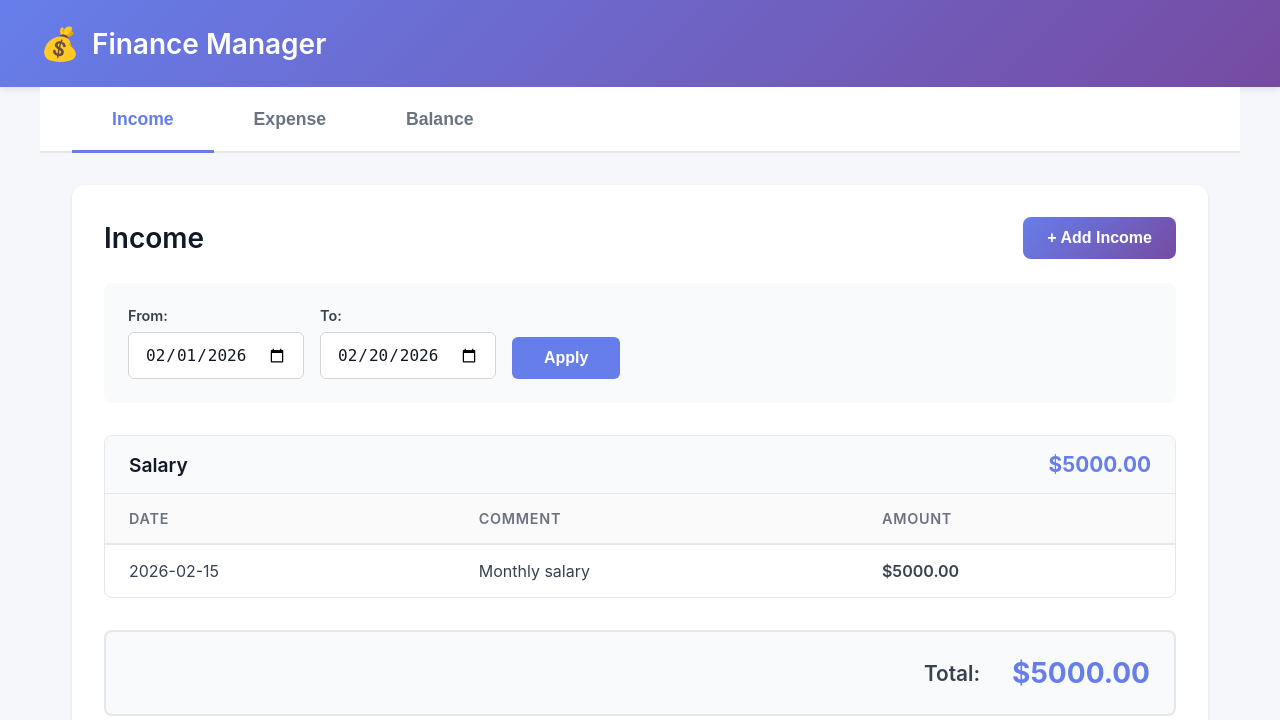
Test: Finance Manager - Balance Tab › Expenses View › should handle multiple expense categories
Check: the header with class "app-header" is shown, box [0,0,1279,87]
Check: the navigation bar with class "nav-tabs" is shown, box [40,87,1240,153]
Click the button "Balance".
click(440, 121)  # box [366,89,514,153]
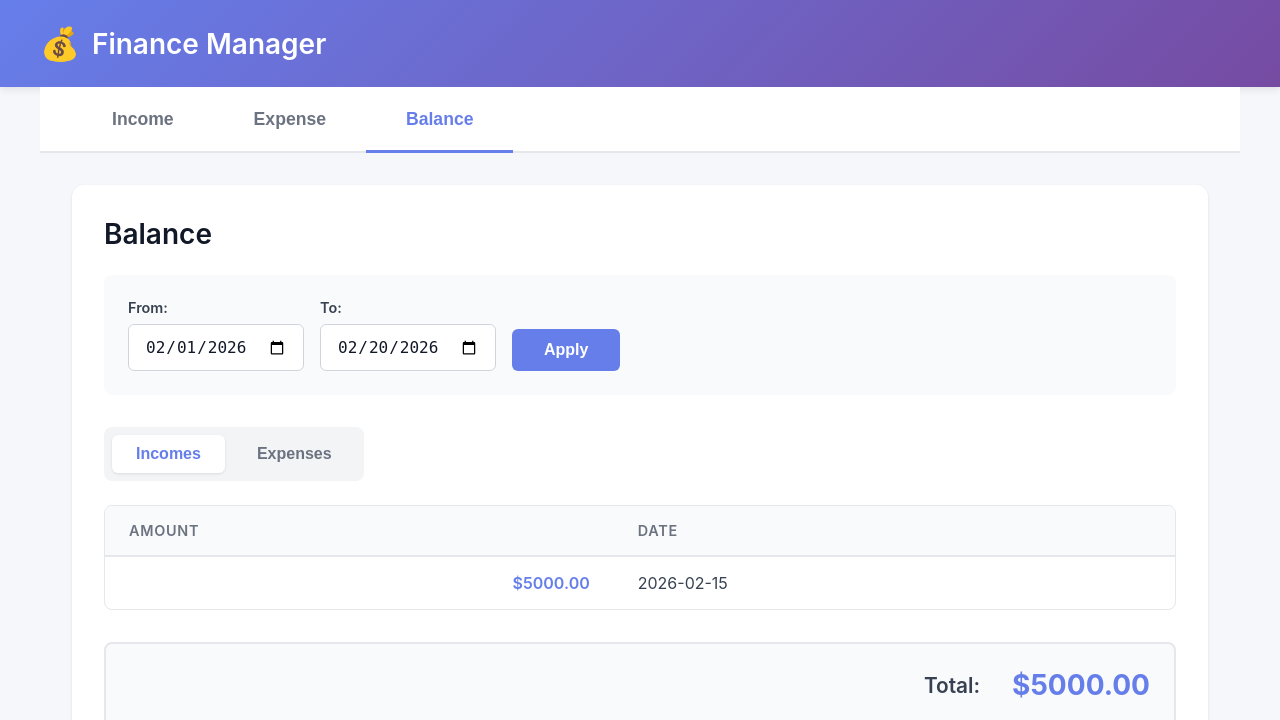
Reload the page
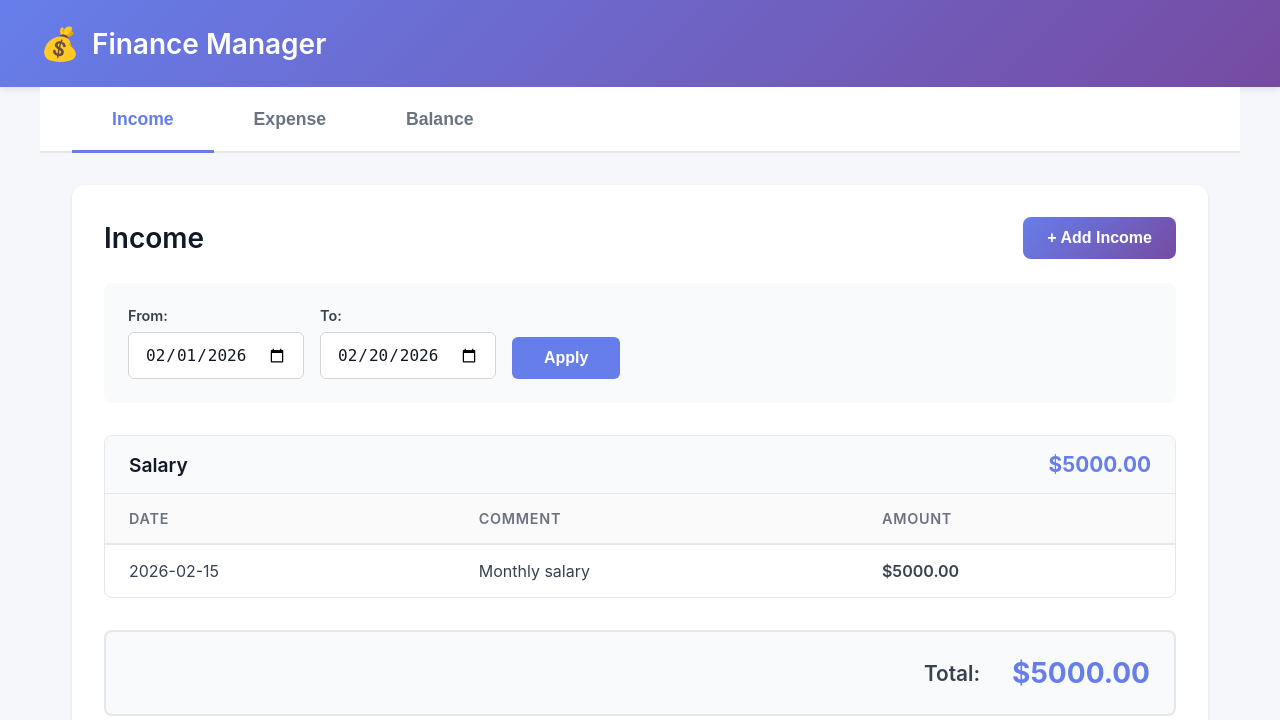
Click the button "Balance".
click(440, 121)  # box [366,89,514,153]
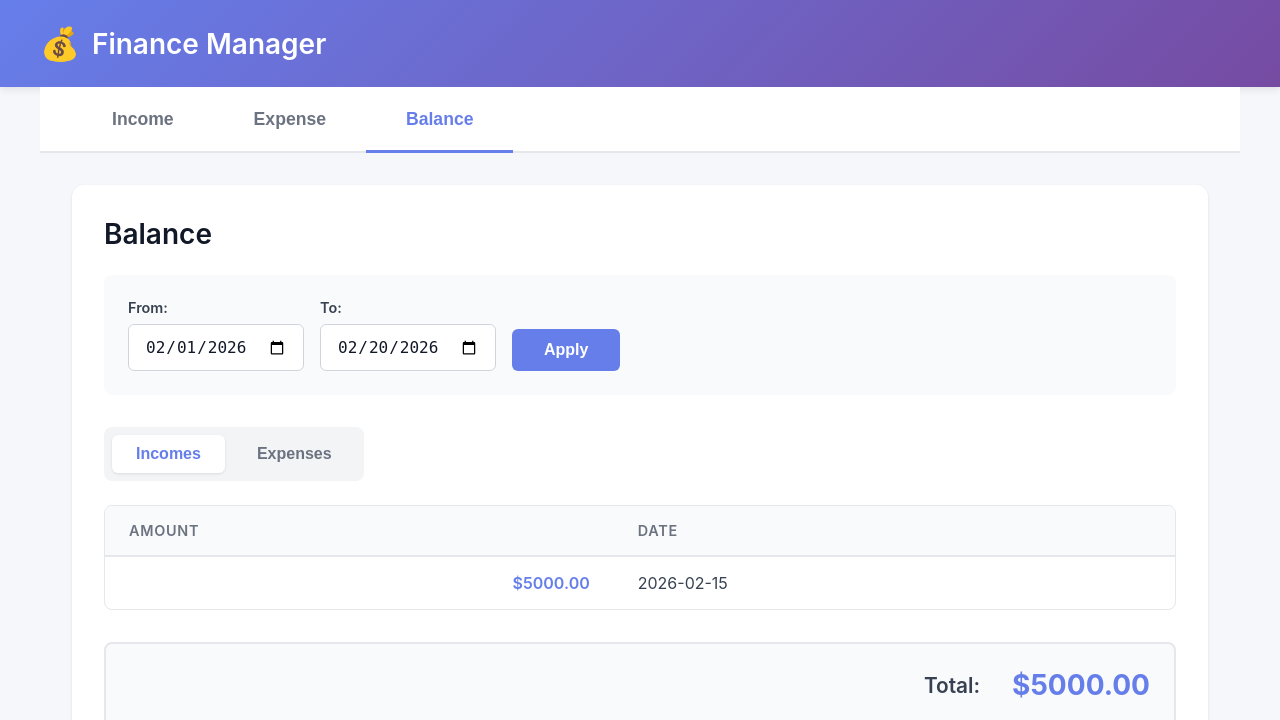
Click the button "Expenses".
click(295, 454)  # box [233,435,356,473]
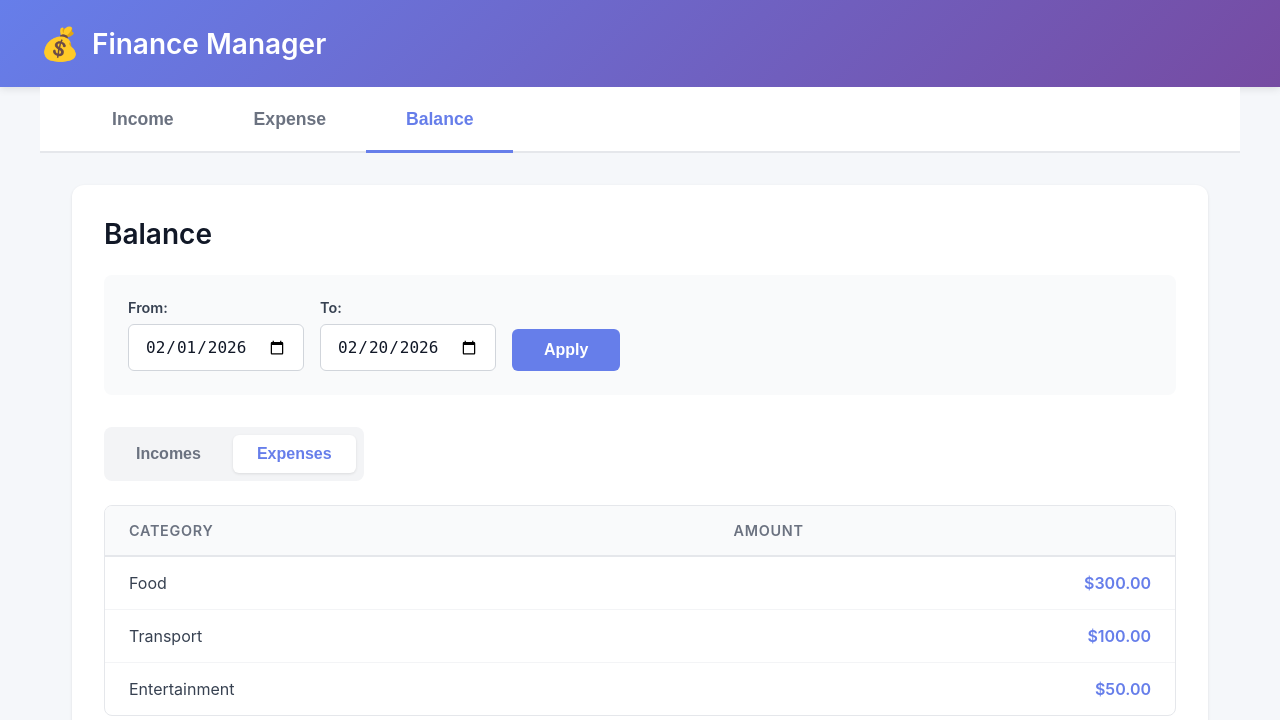
Check: the text "Food" is shown, box [105,556,710,610]
Check: the text "Transport" is shown, box [105,610,710,662]
Check: the text "Entertainment" is shown, box [105,662,710,715]
